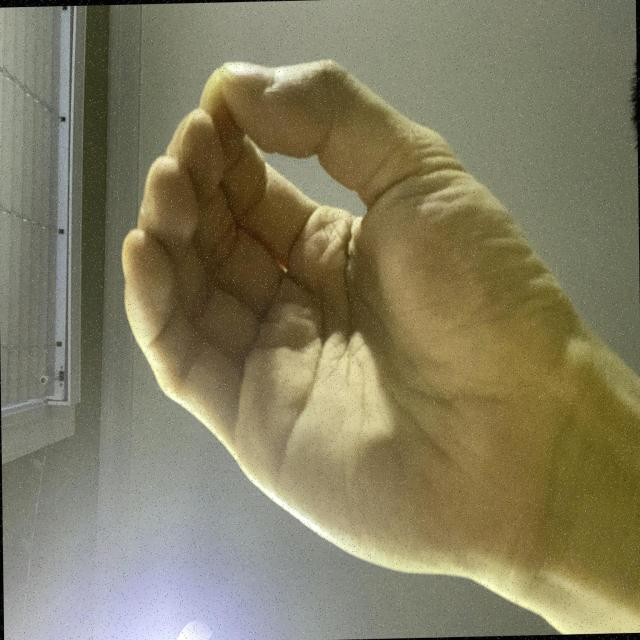O: (30, 152, 452, 640)
